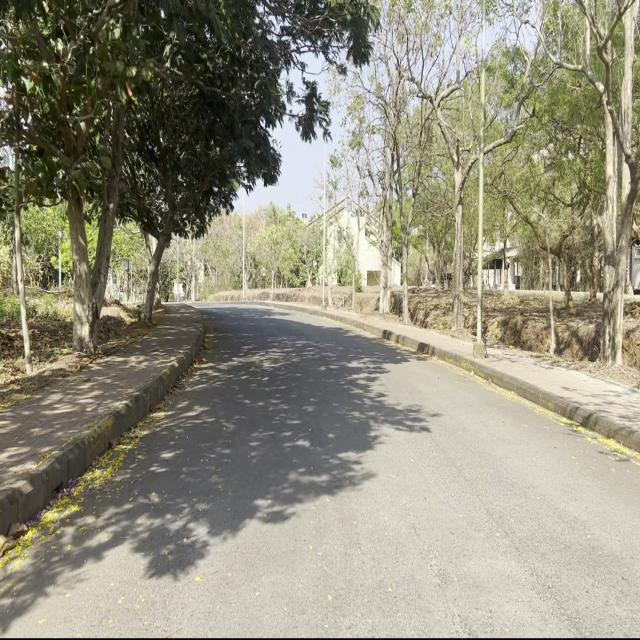Road: (4, 302, 636, 629)
